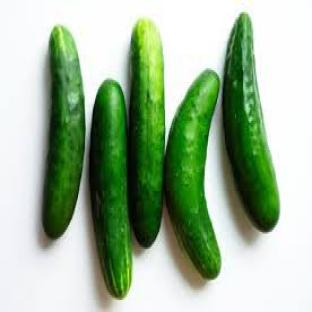Cucumber: (223, 14, 279, 231), (166, 70, 221, 279), (90, 81, 132, 298), (43, 26, 84, 238), (129, 19, 165, 247)
